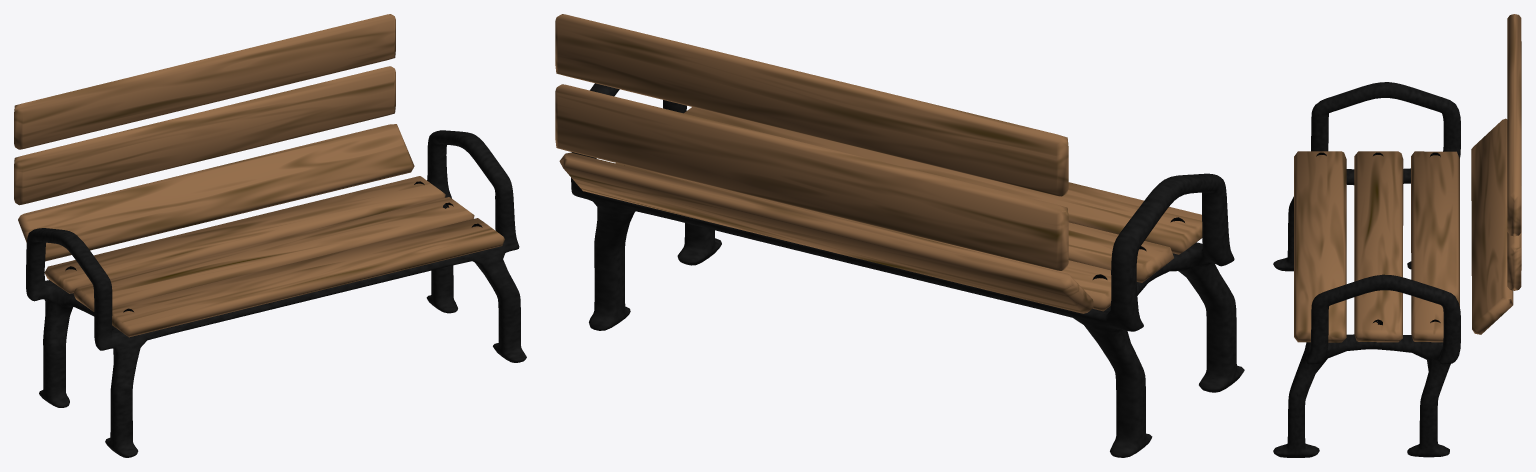
Rendered from bench1.glb.
3 renders of one model, left to right at view 1: azimuth 30°, elevation 25°; view 2: azimuth 150°, elevation 25°; view 3: azimuth 270°, elevation 25°, orthographic. The views are drawn at different scales.
Parts seen in each view (by area): view 1: Bench, Base; view 2: Bench, Base; view 3: Bench, Base.
Boxes of the visible parts, x1,y1,x2,y2 form: Bench: [14, 14, 504, 337]; Base: [26, 130, 526, 457]; Bench: [555, 14, 1202, 313]; Base: [571, 83, 1244, 457]; Bench: [1294, 14, 1521, 342]; Base: [1273, 82, 1460, 457].
Size of the model in its own units: 1.94 by 1.16 by 1.01.
2 materials, 2 textured.
